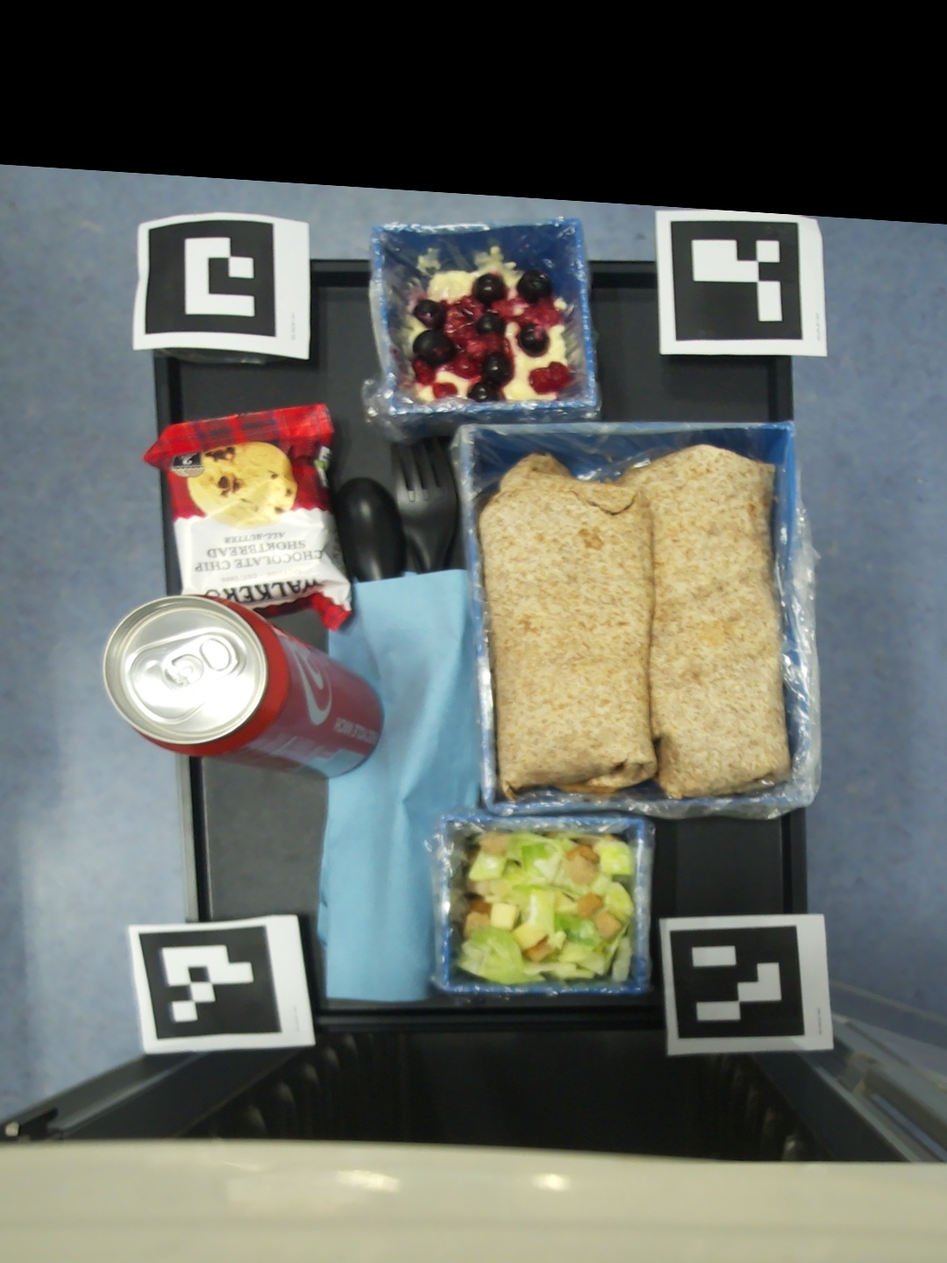cola: (102, 596, 385, 781)
cookie: (141, 402, 352, 629)
side_salad: (455, 830, 631, 985)
vanilla_pudding_with_fruits: (399, 251, 567, 405)
wrap_half_1: (478, 453, 655, 799)
wrap_half_2: (613, 444, 788, 802)
